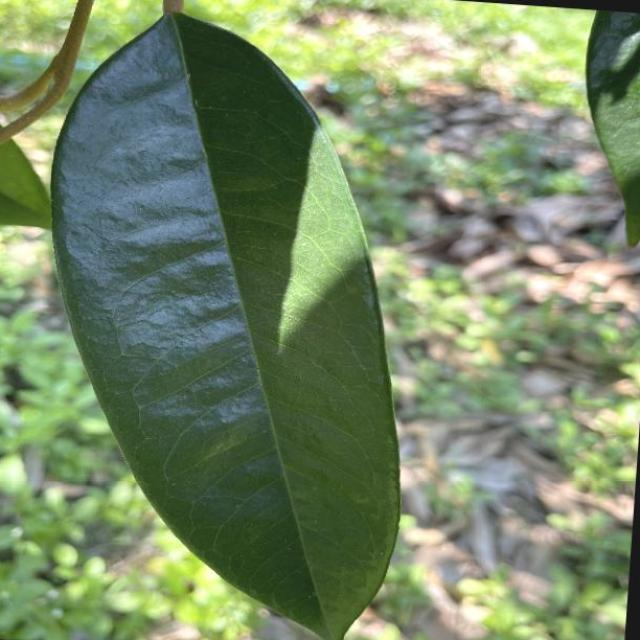No Disease: (1, 0, 449, 640)
